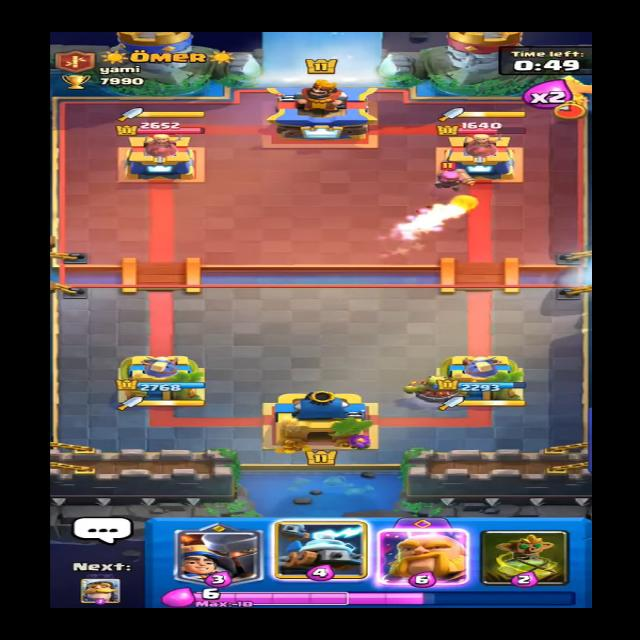firecracker: (425, 157, 479, 190)
phoenix: (529, 72, 598, 119)
